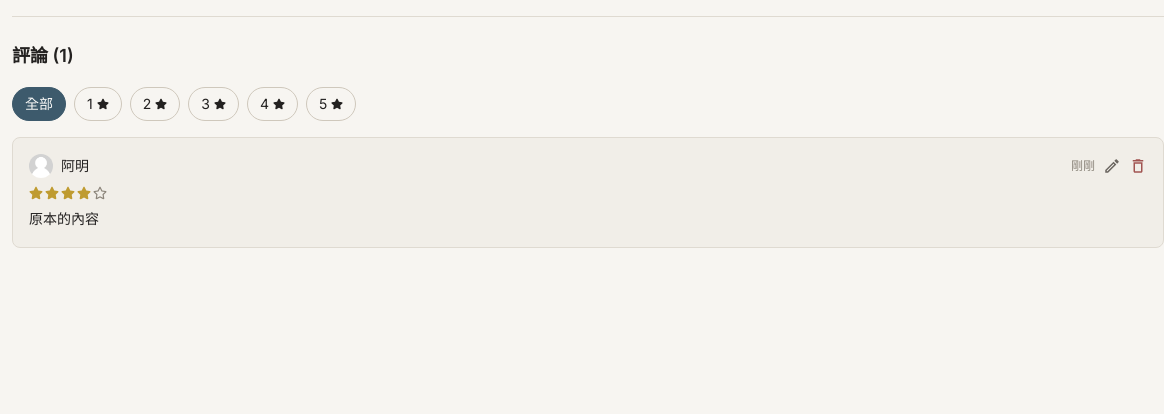
Test case: CommentSection 編輯評論 › 點編輯後就地變成表單，並帶入原內容
Click the button named "編輯評論" at (1112, 166), box [1103,157,1121,175]
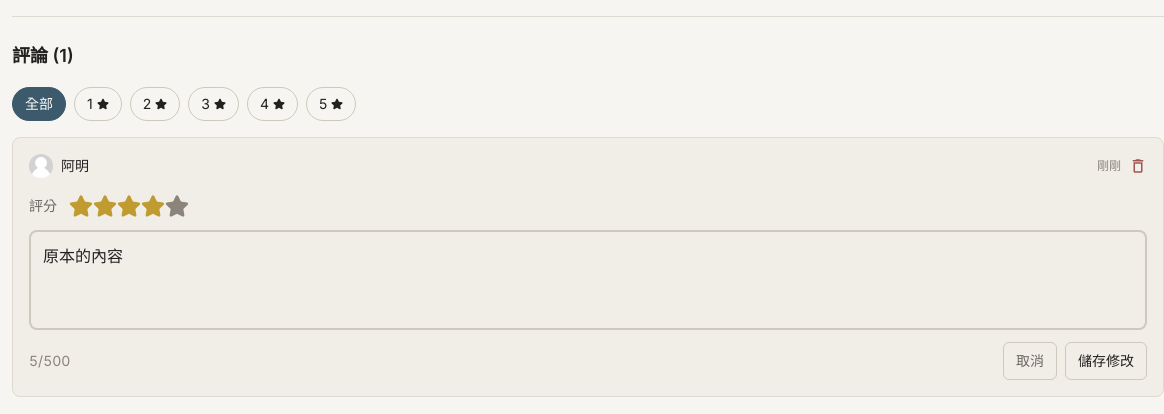
Expected: the text box named "評論內容" holds "原本的內容", [29,230,1147,330]
Expected: the button "儲存修改" is shown, [1065,342,1147,380]
